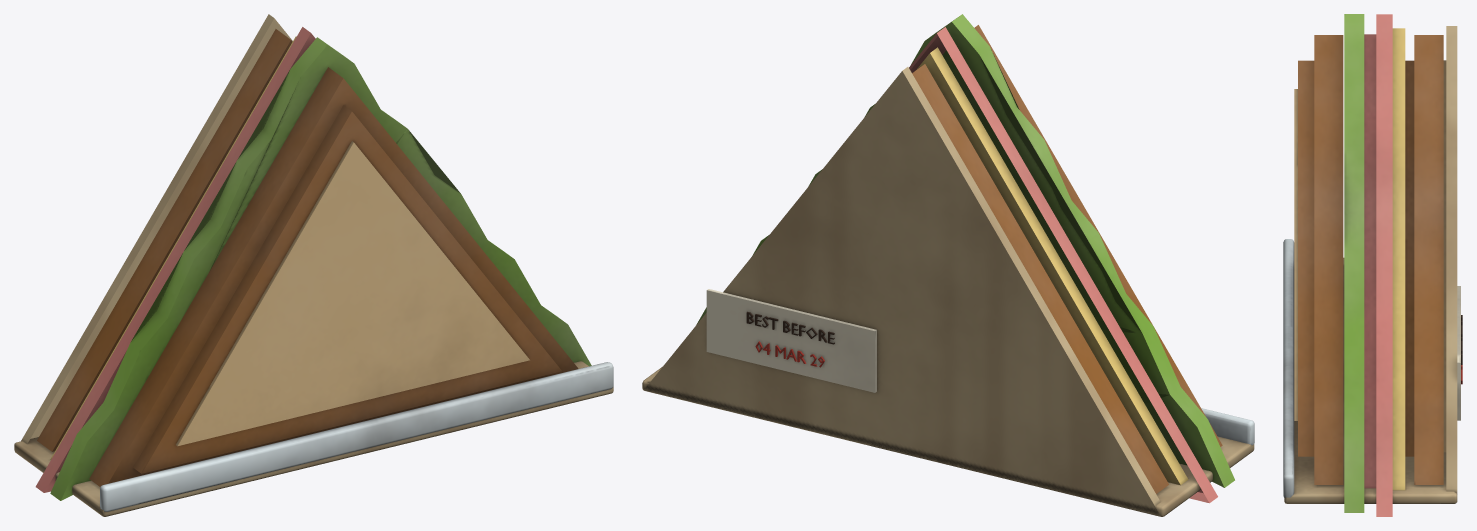
The model's file is sandwich.fbx.
3 views of the same model, side by side, from view 1: azimuth 30°, elevation 25°; view 2: azimuth 150°, elevation 25°; view 3: azimuth 270°, elevation 25° (orthographic). The views are drawn at different scales.
Parts seen in each view (by area): view 1: Body; view 2: Body; view 3: Body.
Boxes of the visible parts, left/top/right/bottom form: Body: left=14, top=14, right=613, bottom=516; Body: left=642, top=14, right=1254, bottom=516; Body: left=1283, top=14, right=1462, bottom=516.
Size of the model in its own units: 0.648 by 0.4584 by 0.197.
Materials: 1 (1 with a texture image).
